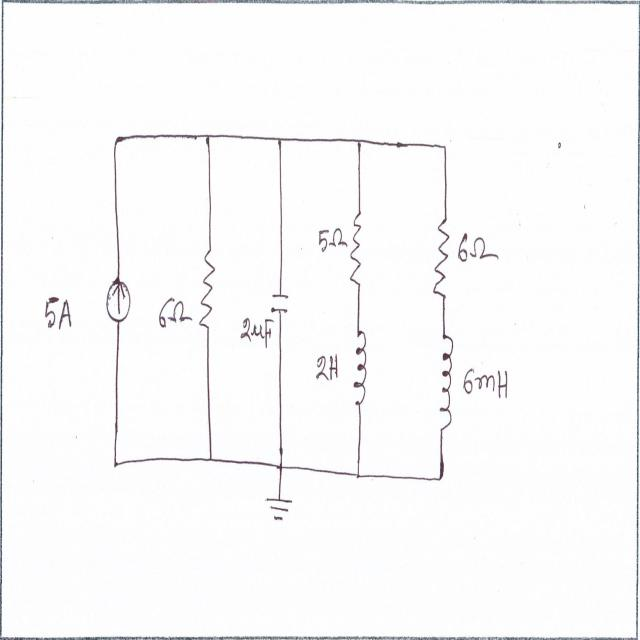capacitor: (270, 288, 290, 322)
current_source: (102, 277, 134, 326)
ground: (262, 492, 298, 534)
inductor: (436, 336, 454, 439), (352, 324, 370, 415)
resistor: (197, 245, 216, 338), (434, 215, 451, 301), (348, 205, 364, 292)
